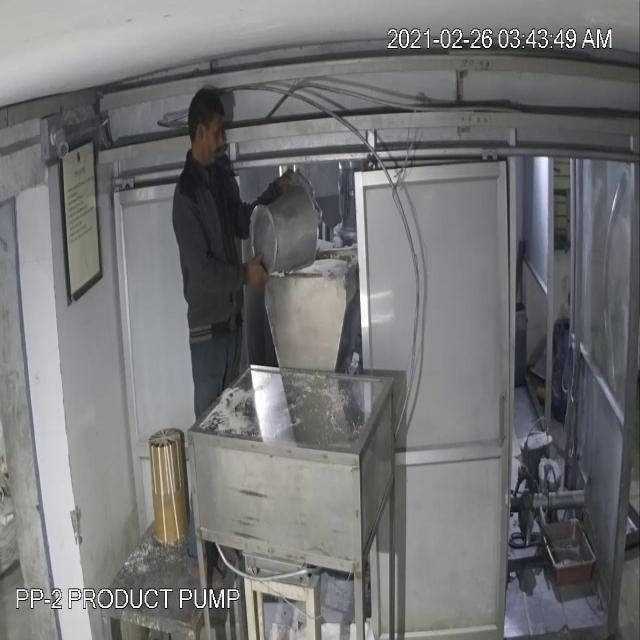no-helmet: (176, 82, 232, 173)
